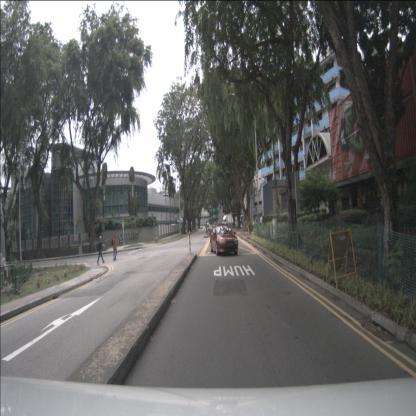human-pedestrian-adult: (96, 236, 106, 265), (112, 233, 117, 261), (208, 221, 211, 236), (205, 221, 208, 236), (260, 214, 262, 232), (256, 215, 258, 231)
vehicle-car: (210, 225, 238, 256)
vehicle-truck: (222, 213, 238, 227)
